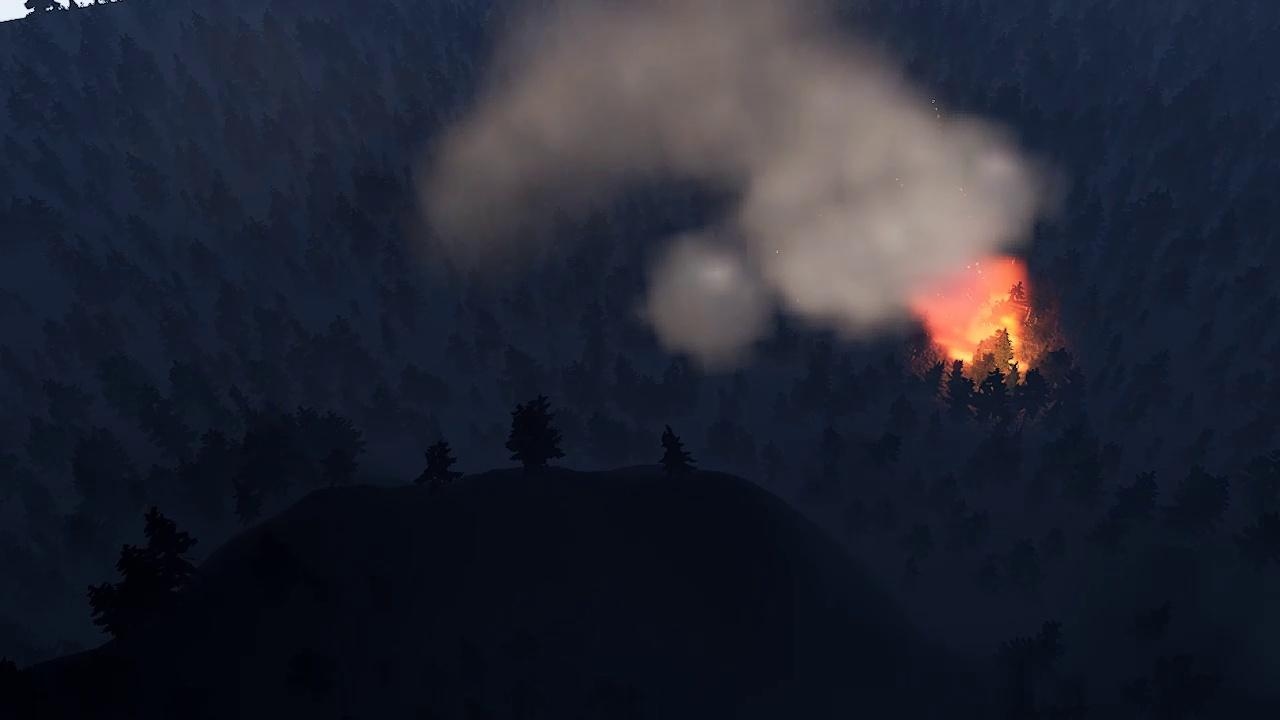fire: (920, 256, 1045, 391)
smoke: (403, 0, 1076, 376)
